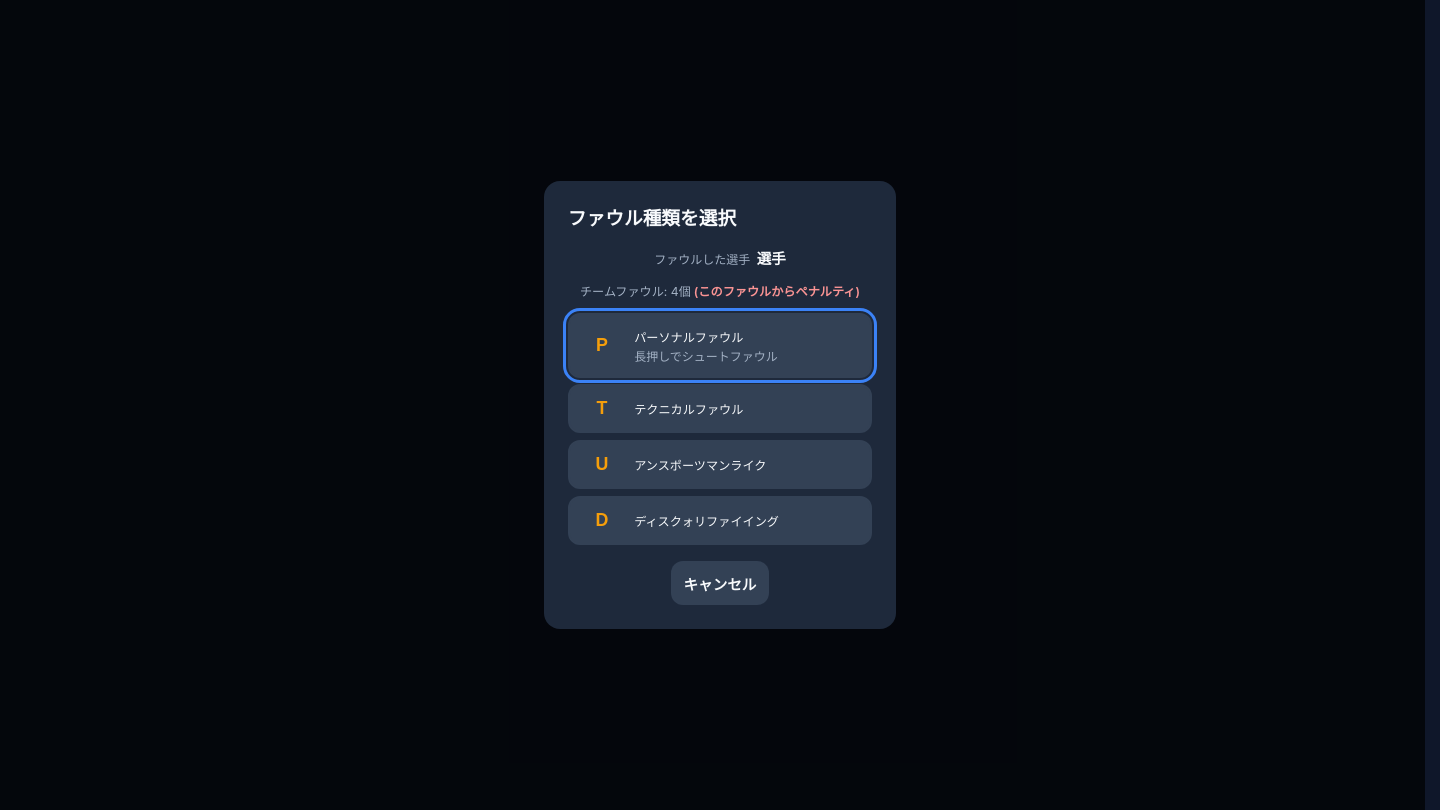
Test: ペナルティ中のFTなし › シューター選択にFTなしの出口がある
Press the mouse on the button "P パーソナルファウル 長押しでシュートファウル" at (720, 346), box x1=568 y1=314 x2=872 y2=378
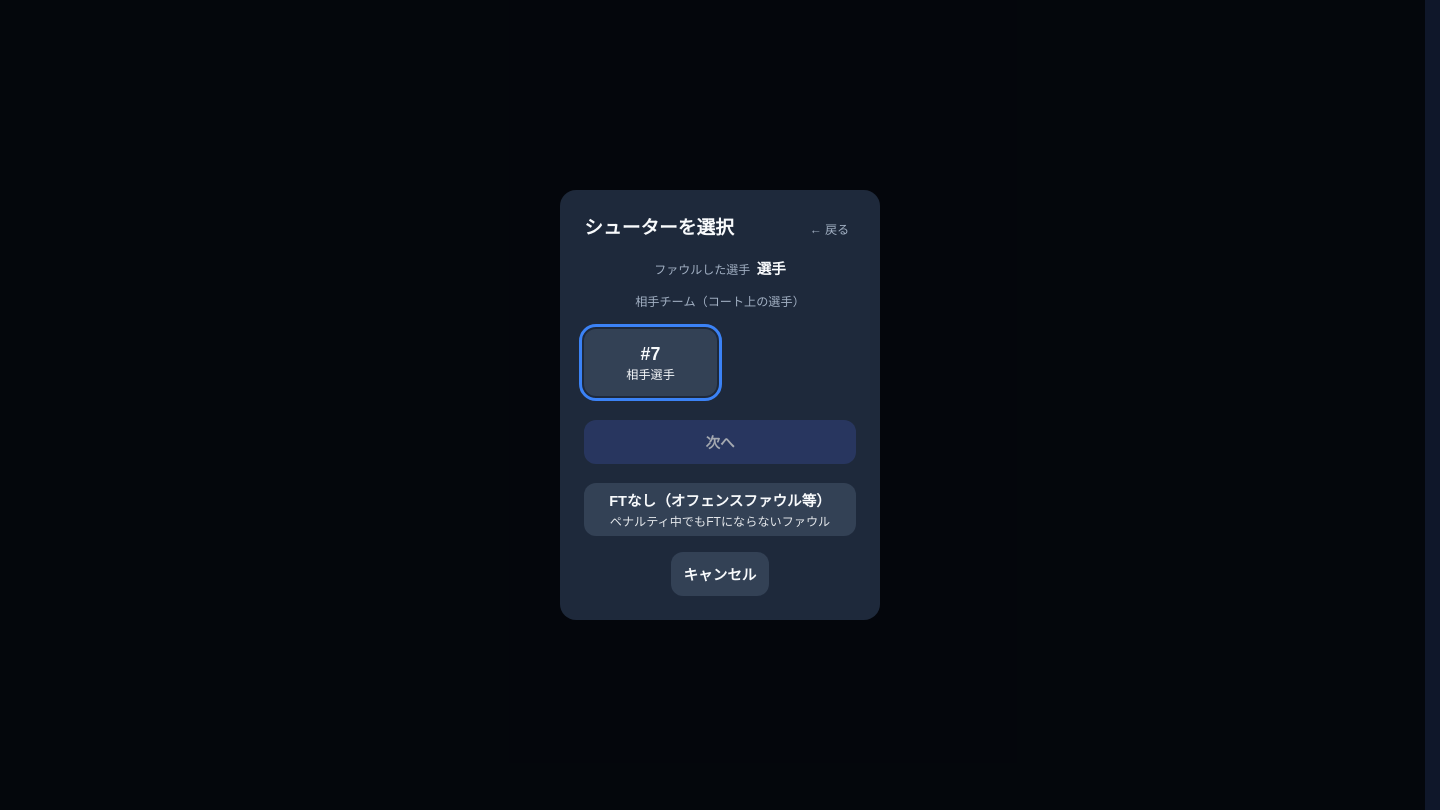
expect the heading "シューターを選択" is shown: met, box x1=584 y1=214 x2=734 y2=242
expect the button "FTなし（オフェンスファウル等） ペナルティ中でもFTにならないファウル" is shown: met, box x1=584 y1=483 x2=856 y2=536
